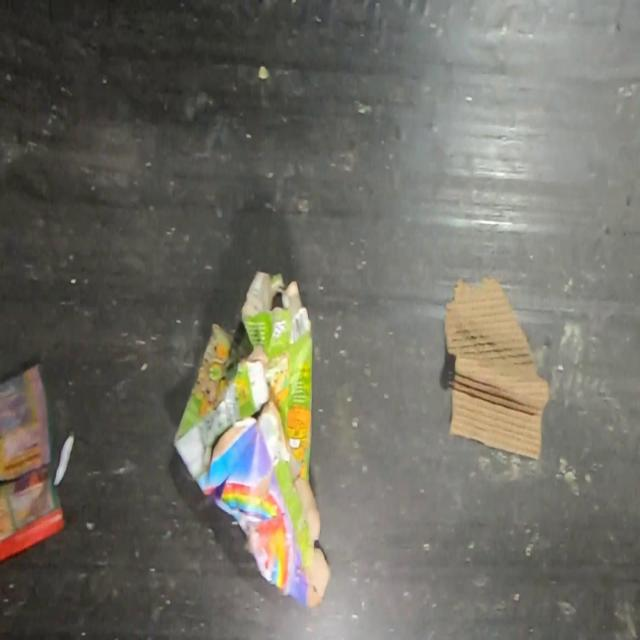cardboard: (171, 268, 333, 611), (442, 275, 552, 462)
